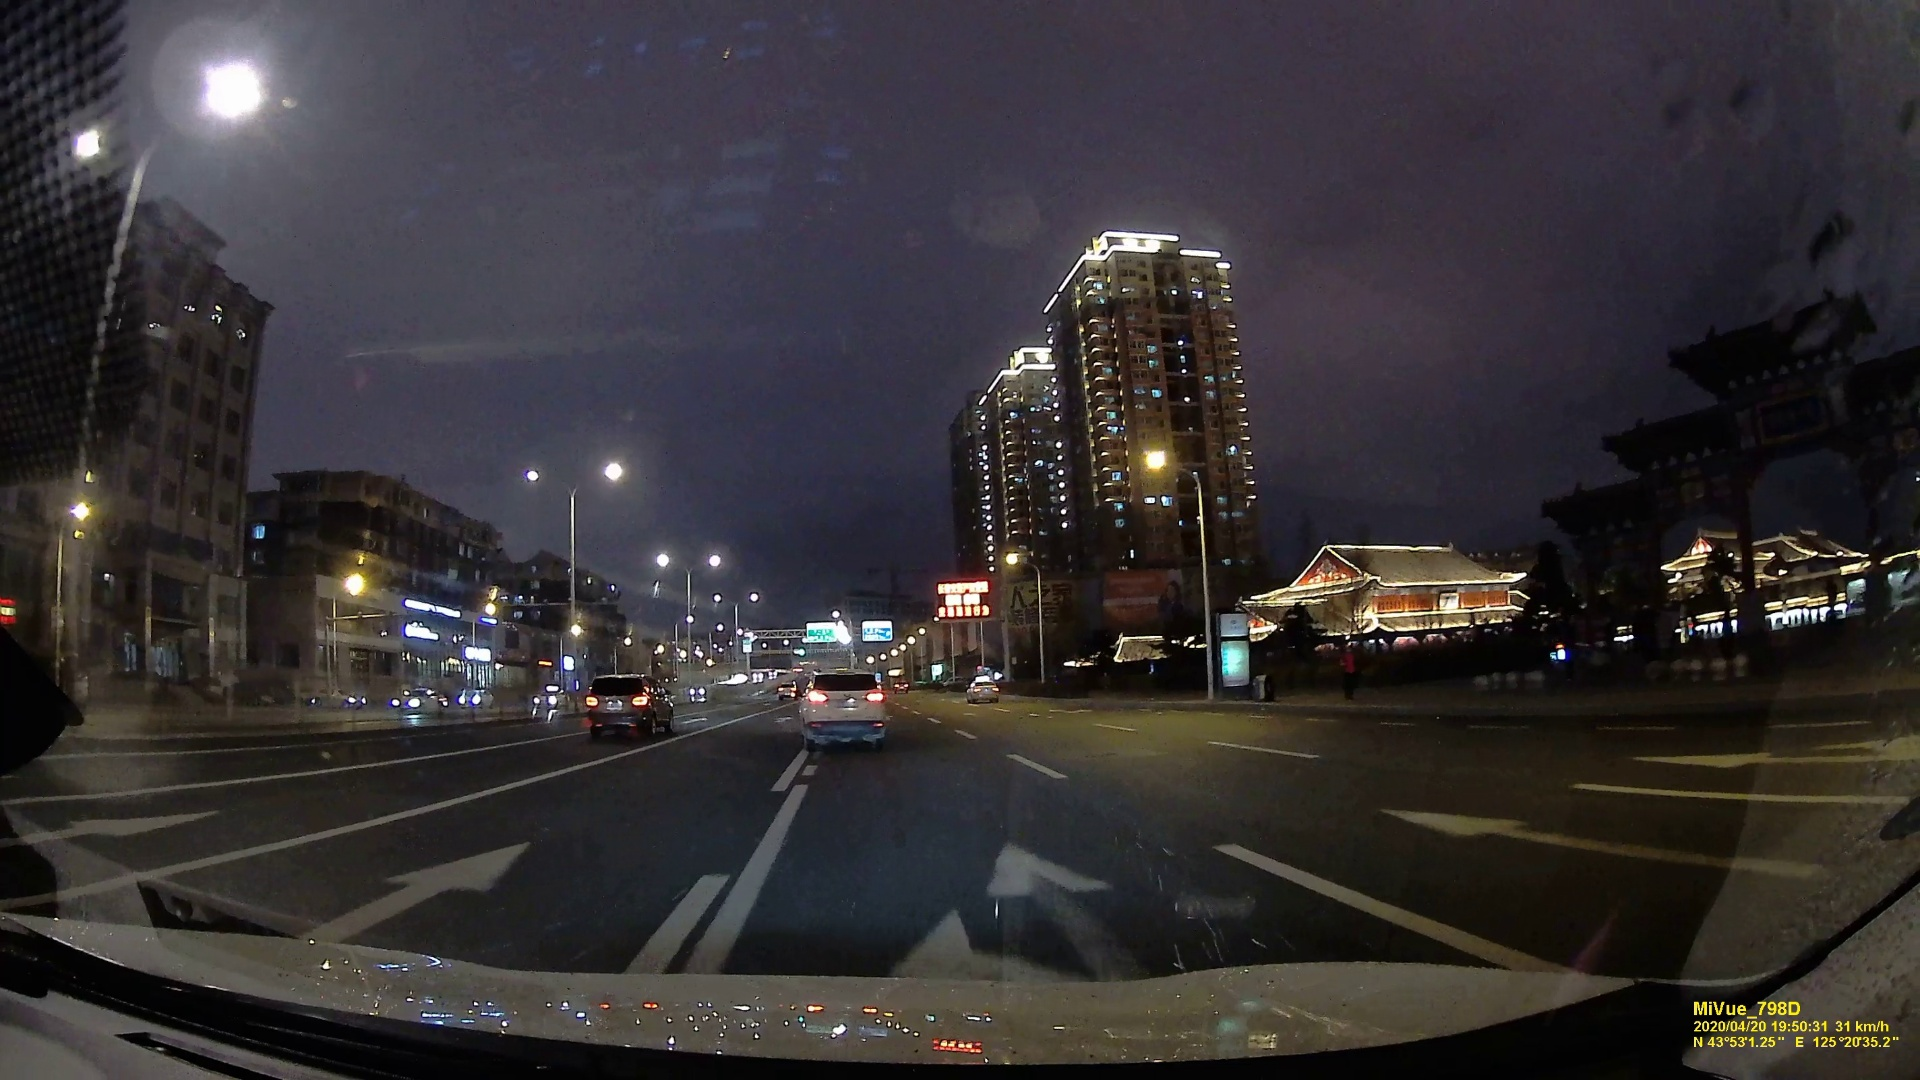traffic_sign: (861, 618, 891, 644), (804, 620, 835, 641)
vehicle: (799, 666, 887, 752), (582, 673, 676, 736), (388, 688, 444, 713), (459, 686, 495, 709), (967, 679, 1000, 703)
